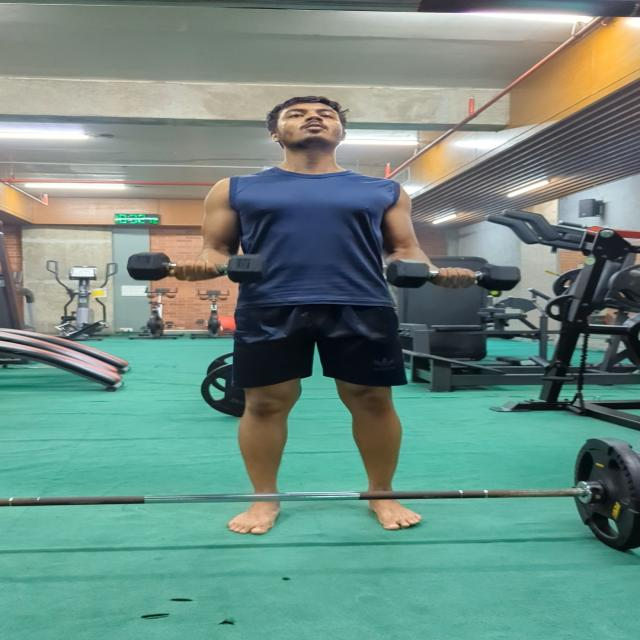Normal_DumbbellBicepCurls: (123, 87, 532, 537)
